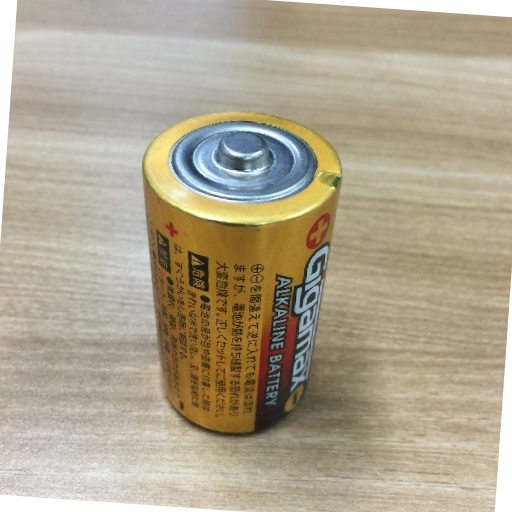Battery_0: (133, 100, 351, 439)
